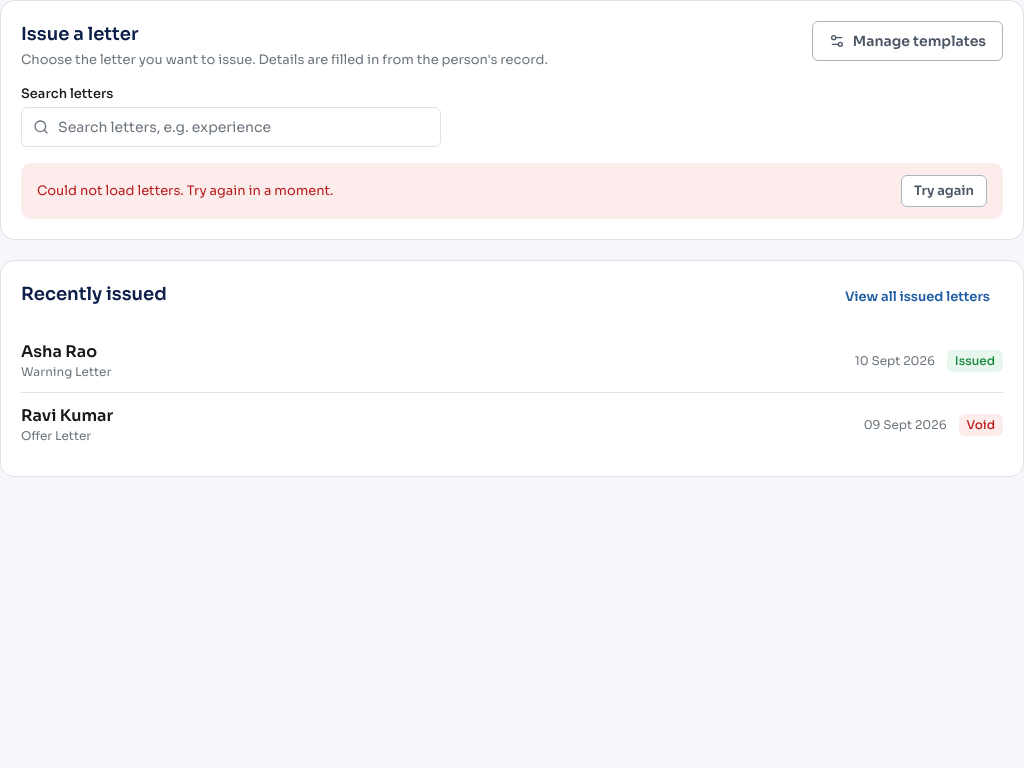
Scenario: offers a retry when templates fail to load
Expected: the text "Could not load letters. Try again in a moment." is shown, [37,182,334,200]
Click the button "Try again" at (944, 191), box [901,175,987,207]
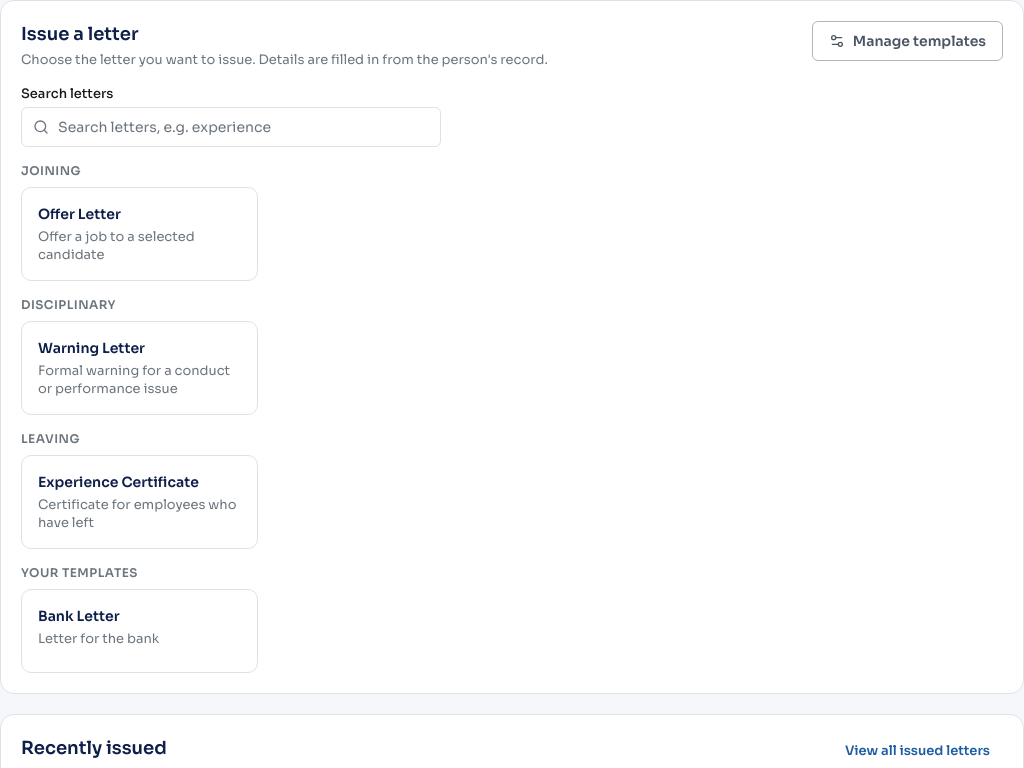
Expected: the button "Offer Letter Offer a job to a selected candidate" is shown, [21,187,258,281]
